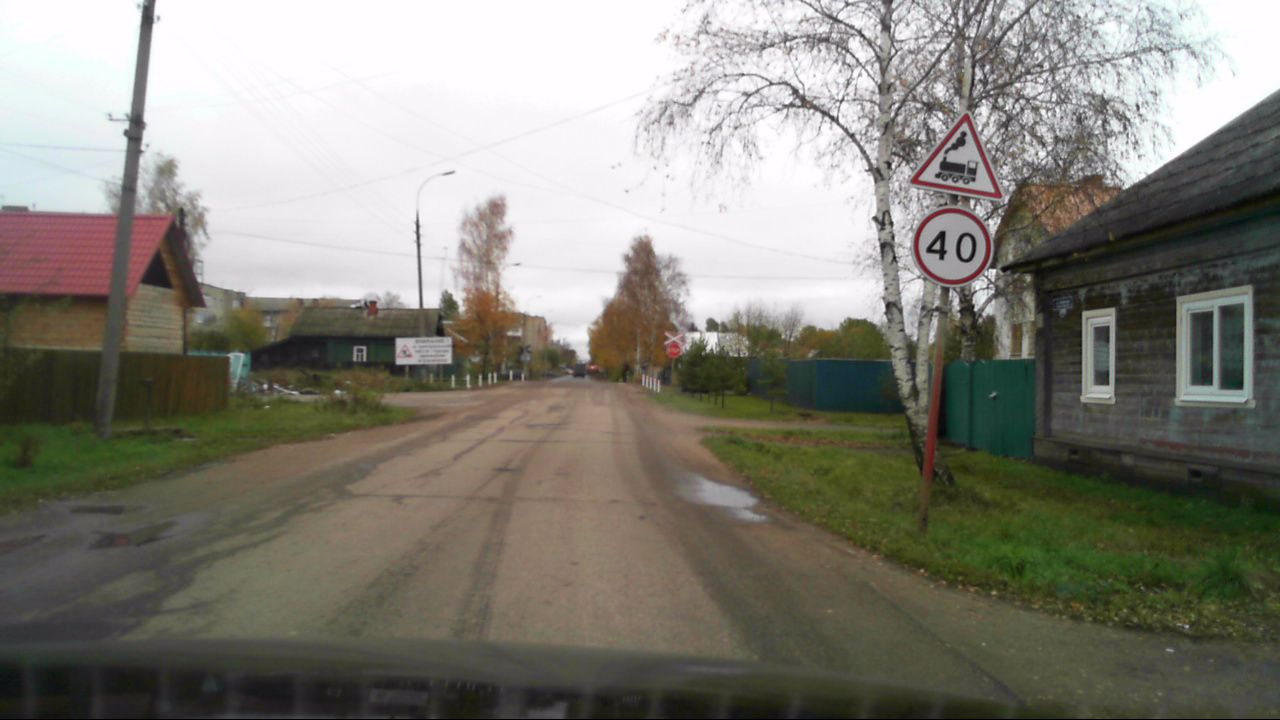speed_warning_40: (910, 205, 993, 288)
